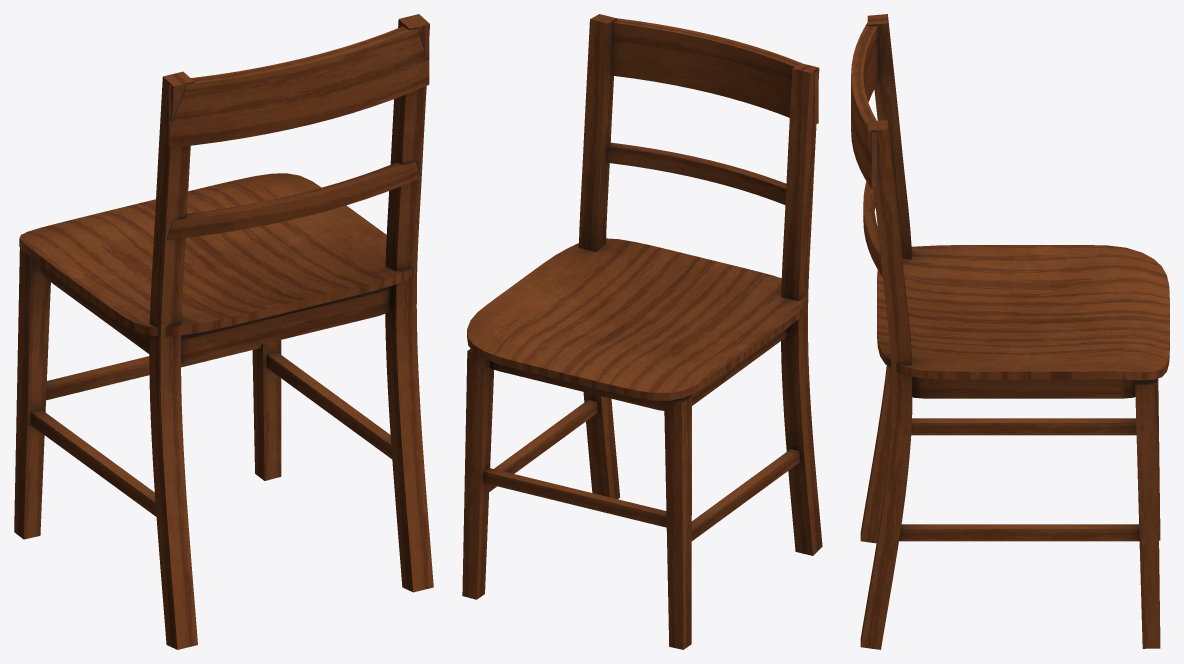
Rendered from chair_bent_web.glb.
3 renders of one model, left to right at view 1: azimuth 30°, elevation 25°; view 2: azimuth 150°, elevation 25°; view 3: azimuth 270°, elevation 25°, orthographic. The views are drawn at different scales.
Parts seen in each view (by area): view 1: ChairBent_Mesh; view 2: ChairBent_Mesh; view 3: ChairBent_Mesh.
Part boxes in pixels (x1,y1,x2,y2): ChairBent_Mesh: [14, 14, 433, 649]; ChairBent_Mesh: [462, 14, 822, 649]; ChairBent_Mesh: [851, 14, 1169, 649].
Size of the model in its own units: 0.44 by 0.8437 by 0.468.
1 material, 1 textured.
